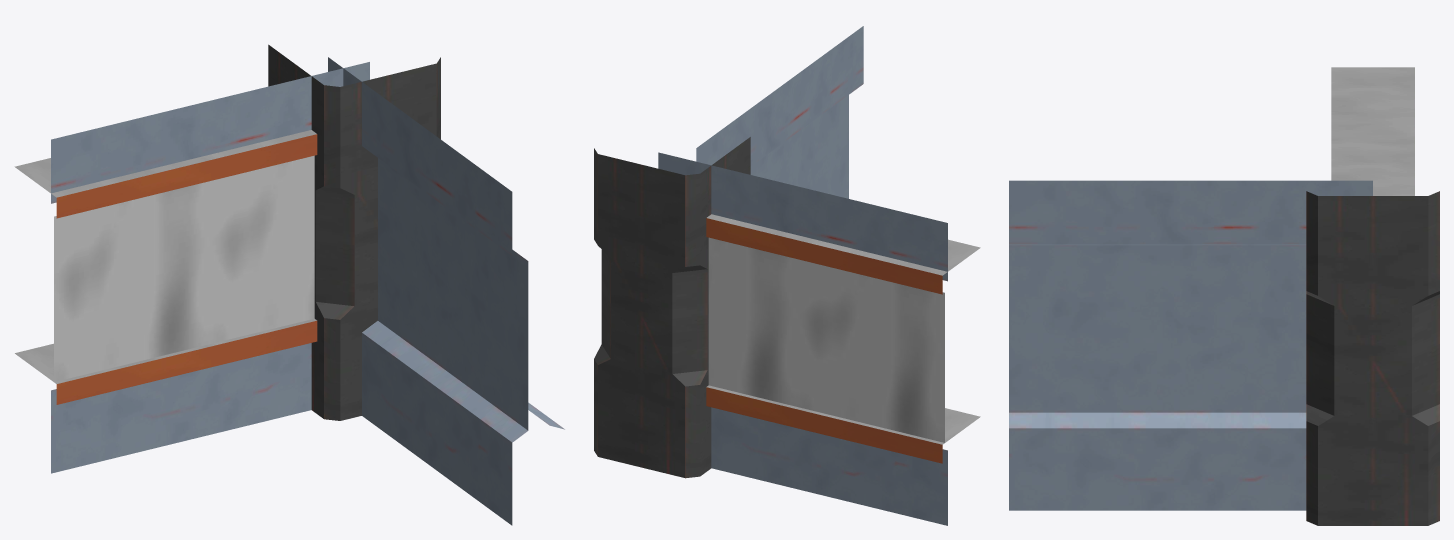
File: Wall_WindowCorner_1_A_F.glb
The picture shows the model from 3 angles, left to right: view 1: azimuth 30°, elevation 25°; view 2: azimuth 150°, elevation 25°; view 3: azimuth 270°, elevation 25°; orthographic projection. The views are drawn at different scales.
Visible parts, largest first — view 1: Wall_WindowCorner_1_A_F; view 2: Wall_WindowCorner_1_A_F; view 3: Wall_WindowCorner_1_A_F.
Boxes of the visible parts, x1,y1,x2,y2 form: Wall_WindowCorner_1_A_F: (14,44,564,525); Wall_WindowCorner_1_A_F: (594,26,980,525); Wall_WindowCorner_1_A_F: (1009,67,1439,525).
Size of the model in its own units: 7.1 by 6 by 7.1.
3 materials, 3 textured.
